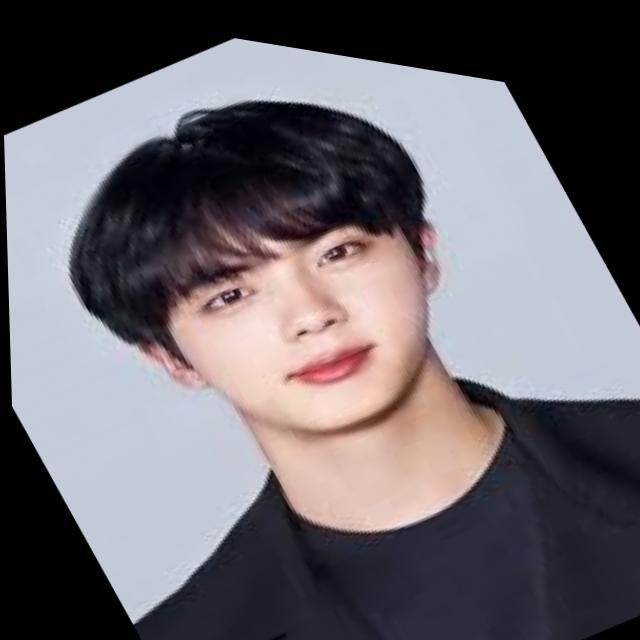Nonhelmet: (64, 94, 448, 435)
